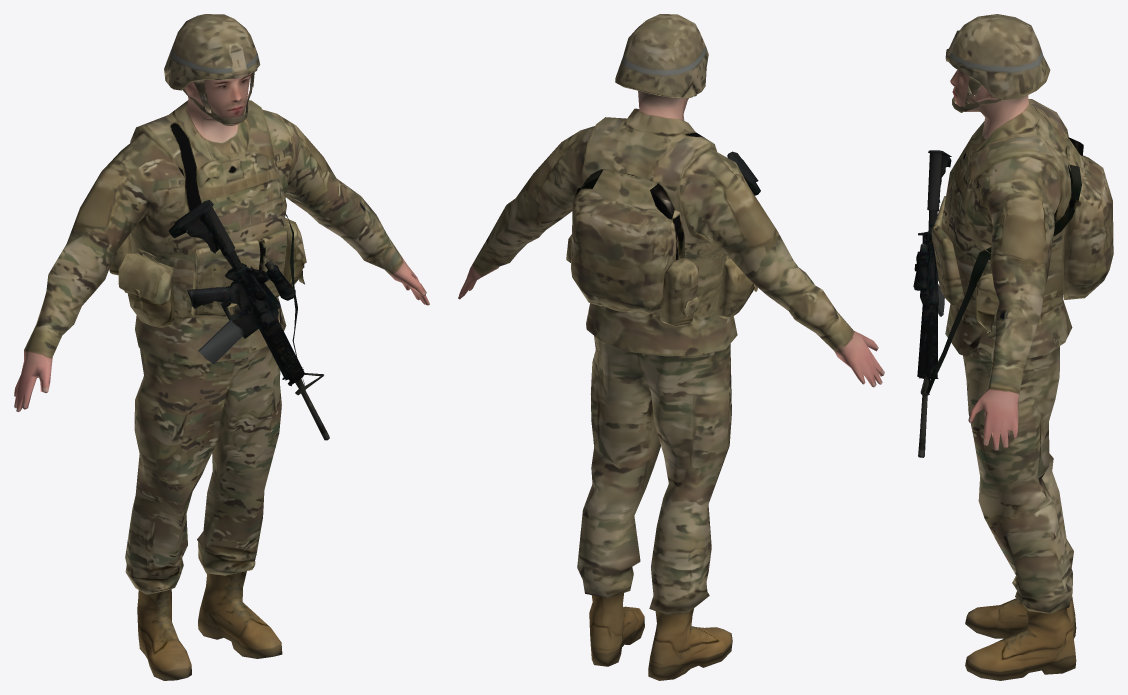
File: us-ranger.glb
3 renders of one model, left to right at view 1: azimuth 30°, elevation 25°; view 2: azimuth 150°, elevation 25°; view 3: azimuth 270°, elevation 25°, orthographic. The views are drawn at different scales.
Visible parts, largest first — view 1: geometry_0; view 2: geometry_0; view 3: geometry_0.
Part boxes in pixels (x1,y1,x2,y2): geometry_0: (14, 14, 429, 680); geometry_0: (458, 14, 884, 680); geometry_0: (913, 14, 1113, 680).
Size of the model in its own units: 0.6509 by 0.9521 by 0.2725.
1 material, 1 textured.
